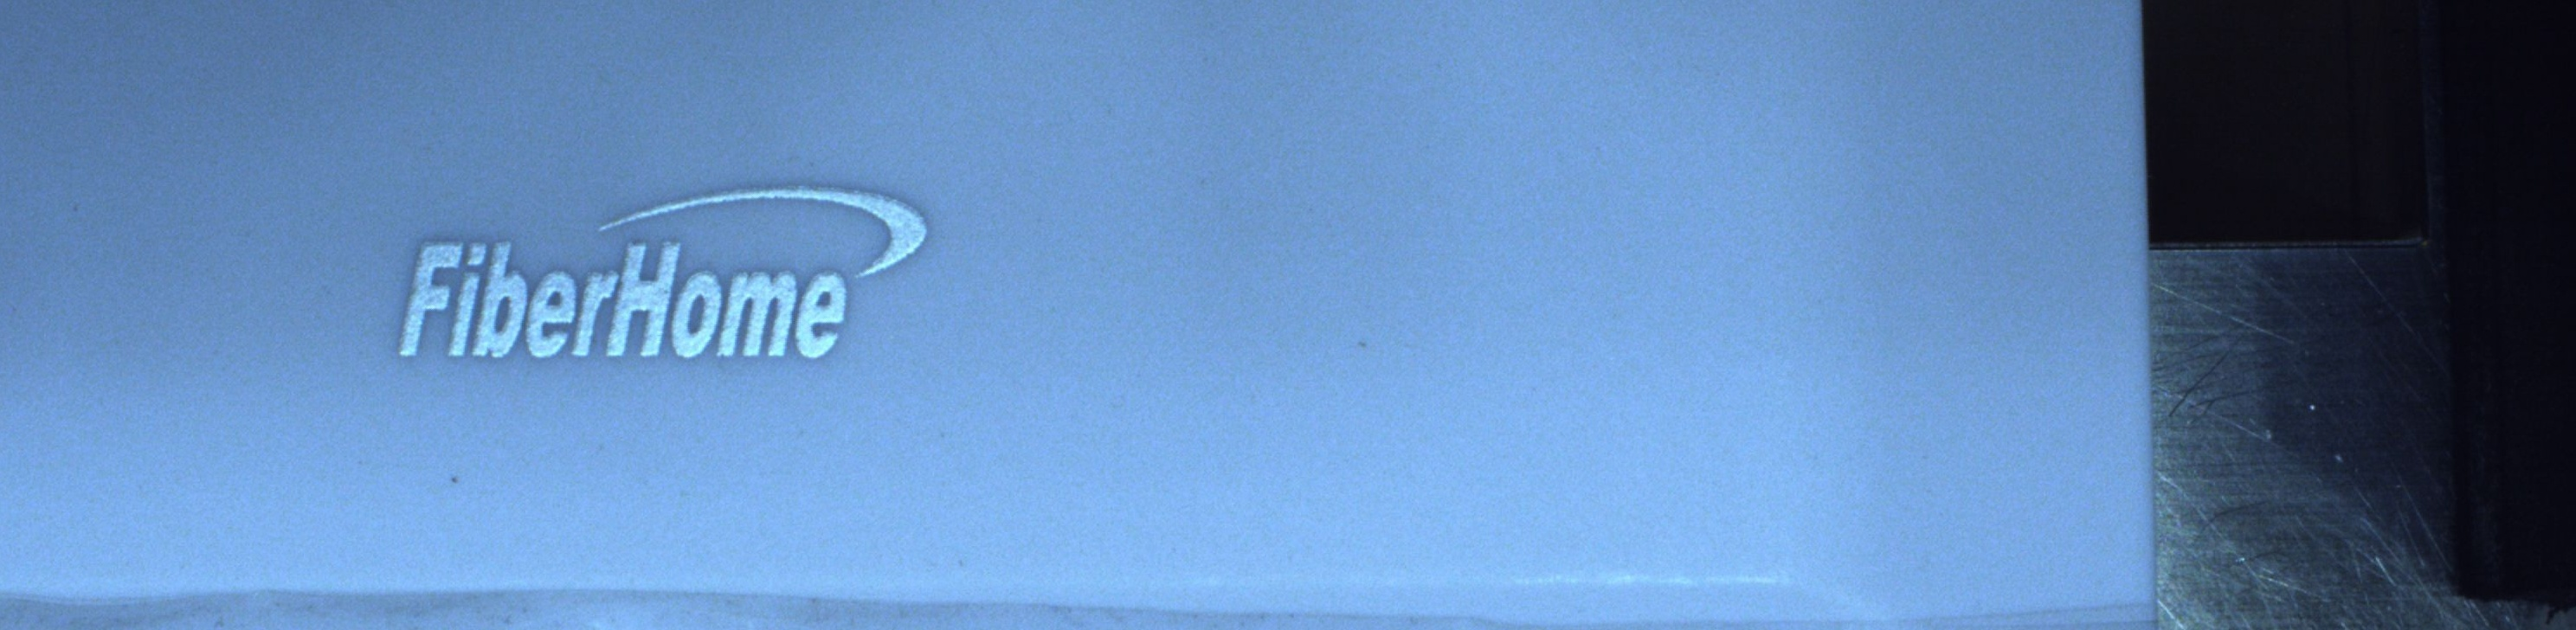AI_FiberHome: (379, 167, 951, 389)
